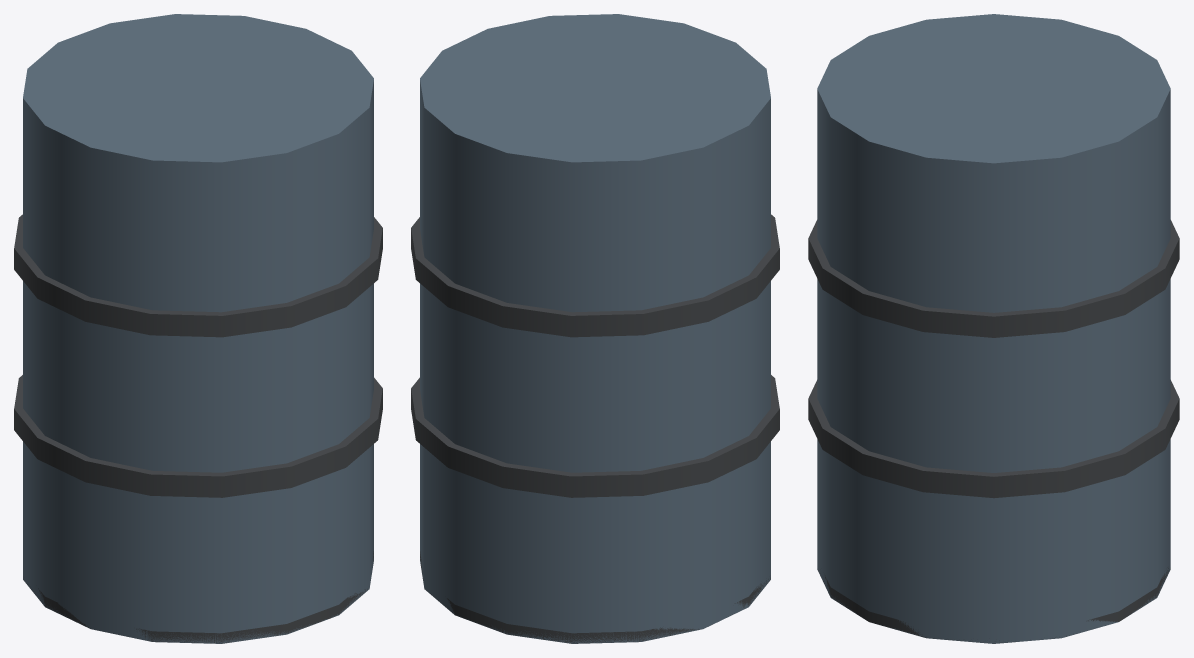
Rendered from ZR_Barrel_Blue.fbx.
The picture shows the model from 3 angles, left to right: view 1: azimuth 30°, elevation 25°; view 2: azimuth 150°, elevation 25°; view 3: azimuth 270°, elevation 25°; orthographic projection.
Parts seen in each view (by area): view 1: ZR_Barrel_Blue; view 2: ZR_Barrel_Blue; view 3: ZR_Barrel_Blue.
Boxes of the visible parts, x1,y1,x2,y2 form: ZR_Barrel_Blue: (14,14,382,643); ZR_Barrel_Blue: (411,14,779,643); ZR_Barrel_Blue: (808,14,1179,643).
Bounding box in the file's own units: 0.63 × 0.9 × 0.63.
